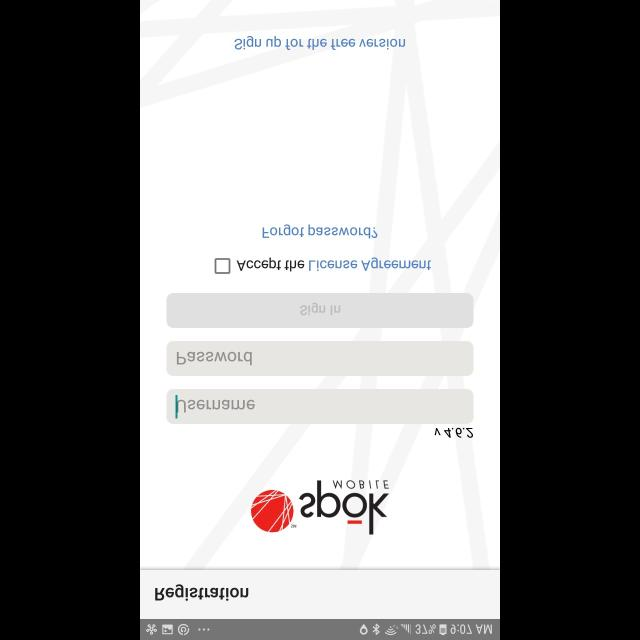backgroundimage: (140, 1, 500, 570)
checkbox: (214, 258, 230, 274)
image: (250, 480, 390, 534)
input: (166, 388, 474, 424), (166, 340, 474, 376)
text: (236, 257, 432, 271), (234, 36, 406, 50), (262, 224, 378, 238), (155, 584, 249, 600), (178, 350, 252, 366), (177, 399, 255, 409), (434, 427, 474, 438)
textbutton: (166, 292, 474, 328)
uppertaskbar: (140, 618, 500, 640)
